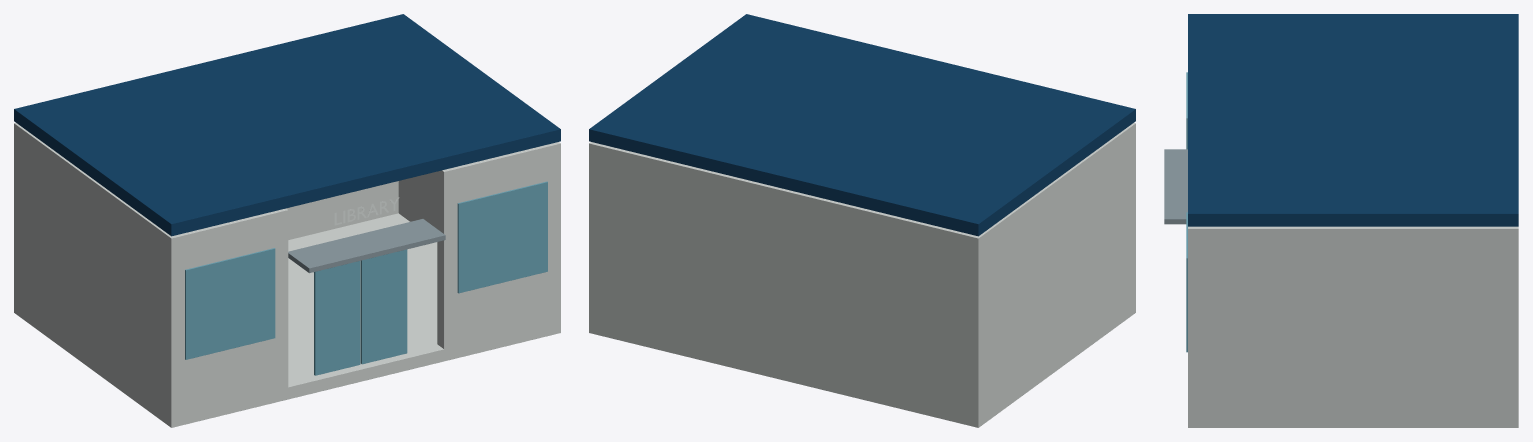
3 views of the same model, side by side, from view 1: azimuth 30°, elevation 25°; view 2: azimuth 150°, elevation 25°; view 3: azimuth 270°, elevation 25° (orthographic). The views are drawn at different scales.
Parts seen in each view (by area): view 1: ROOF, SHELL_Side, SHELL_Floor, SHELL_Front, SHELL_Front.001, WINDOW.001, WINDOW, ENTRANCE_Leaf.001, ENTRANCE_Leaf, SHELL_Back, ENTRANCE_Canopy, SHELL_Side.001; view 2: SHELL_Back, ROOF, SHELL_Side, SHELL_Floor, SHELL_Side.001, SHELL_Front; view 3: ROOF, SHELL_Side.001, SHELL_Floor, SHELL_Back, SHELL_Front.001, ENTRANCE_Canopy.
Part boxes in pixels (<box>): ROOF: <box>14,14,560,236</box>; SHELL_Side: <box>19,125,182,420</box>; SHELL_Floor: <box>14,213,560,427</box>; SHELL_Front: <box>164,208,288,421</box>; SHELL_Front.001: <box>437,143,560,349</box>; WINDOW.001: <box>457,181,547,293</box>; WINDOW: <box>185,248,275,359</box>; ENTRANCE_Leaf.001: <box>360,249,407,364</box>; ENTRANCE_Leaf: <box>314,261,360,375</box>; SHELL_Back: <box>14,123,398,310</box>; ENTRANCE_Canopy: <box>288,219,445,273</box>; SHELL_Side.001: <box>398,142,560,228</box>; SHELL_Back: <box>589,142,985,421</box>; ROOF: <box>589,14,1135,236</box>; SHELL_Side: <box>967,123,1135,421</box>; SHELL_Floor: <box>589,301,1135,427</box>; SHELL_Side.001: <box>589,142,602,323</box>; SHELL_Front: <box>1129,123,1135,310</box>; ROOF: <box>1188,14,1518,226</box>; SHELL_Side.001: <box>1188,226,1518,421</box>; SHELL_Floor: <box>1188,415,1518,427</box>; SHELL_Back: <box>1504,226,1518,421</box>; SHELL_Front.001: <box>1188,226,1201,421</box>; ENTRANCE_Canopy: <box>1164,149,1187,224</box>.
Bounding box in the file's own units: 10 × 5 × 7.5.
